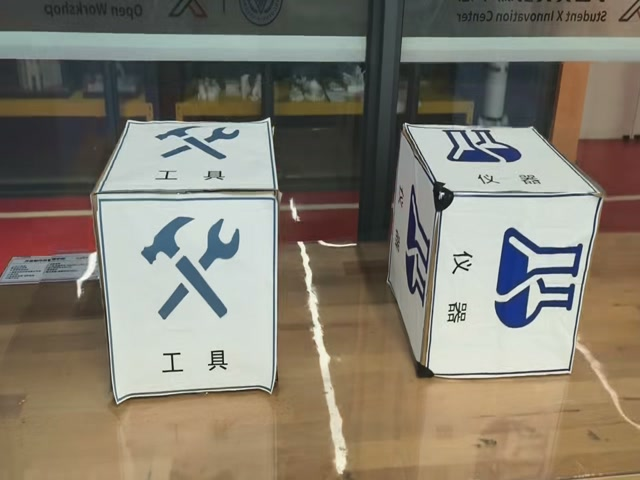Cube_ins: (403, 125, 602, 197)
Cube_tool: (92, 120, 278, 199)
